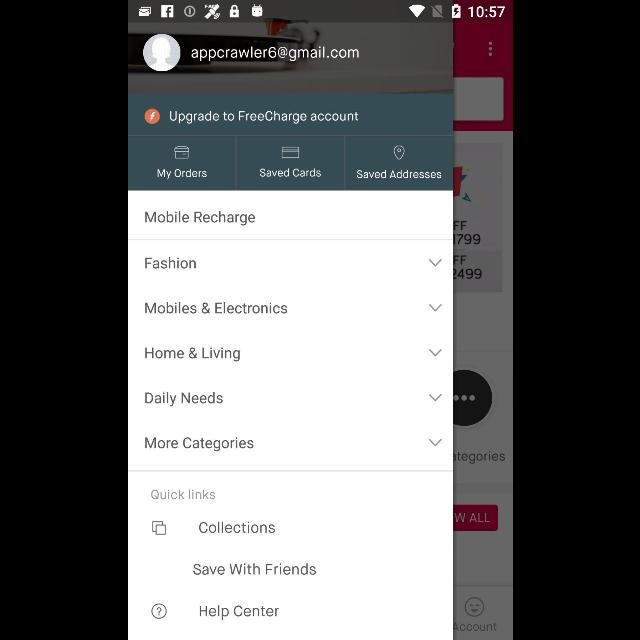icon: (142, 34, 180, 72), (150, 603, 166, 619), (151, 521, 165, 535), (428, 394, 442, 402), (428, 349, 442, 357), (428, 304, 442, 312), (428, 259, 442, 267), (428, 439, 442, 446)
image: (143, 109, 159, 125)
panel: (128, 22, 452, 640)
text: (190, 46, 358, 62), (168, 112, 358, 125), (144, 302, 286, 314), (144, 212, 254, 226), (144, 438, 253, 452), (192, 563, 316, 575), (144, 348, 240, 362), (198, 604, 278, 620), (144, 392, 222, 406), (198, 521, 274, 533), (150, 489, 214, 499), (144, 257, 196, 269)
textbutton: (344, 136, 452, 190), (236, 136, 344, 190), (128, 136, 235, 190)
uppertaskbar: (128, 1, 512, 23)
